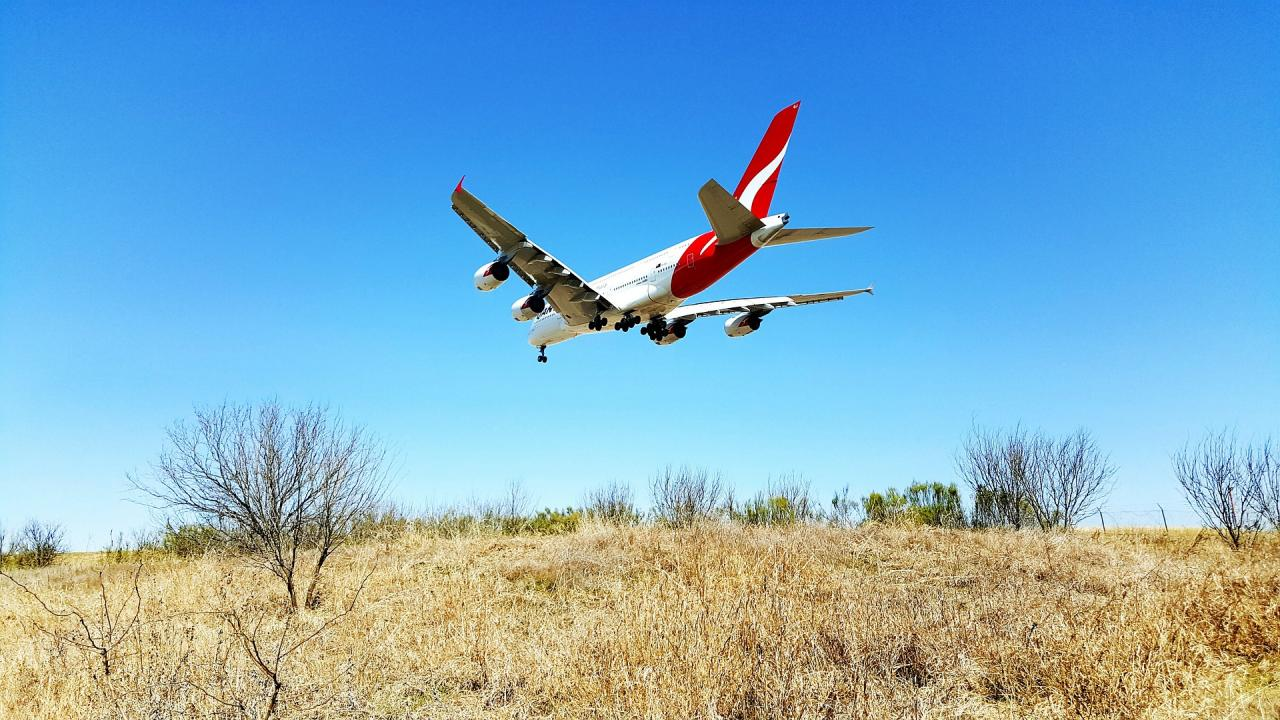Airplane: (443, 87, 888, 372)
